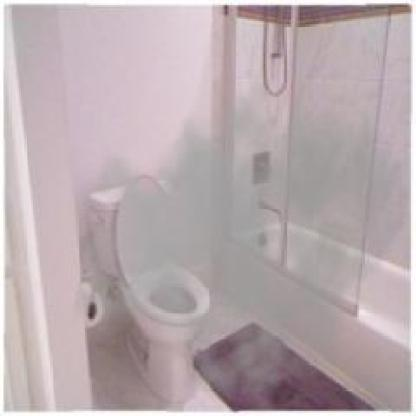Smoke: (71, 59, 411, 414)
